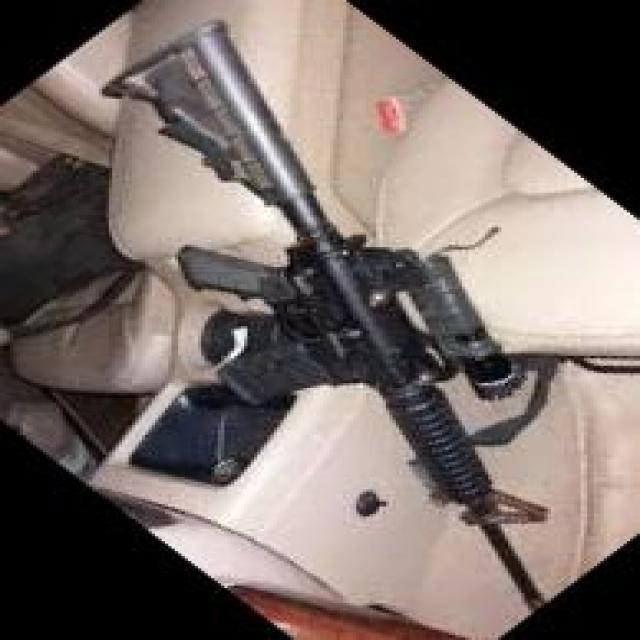weapon: (99, 16, 552, 615)
